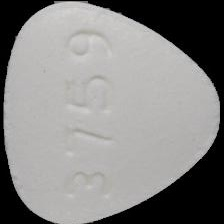0615-5521: (0, 0, 224, 224)
